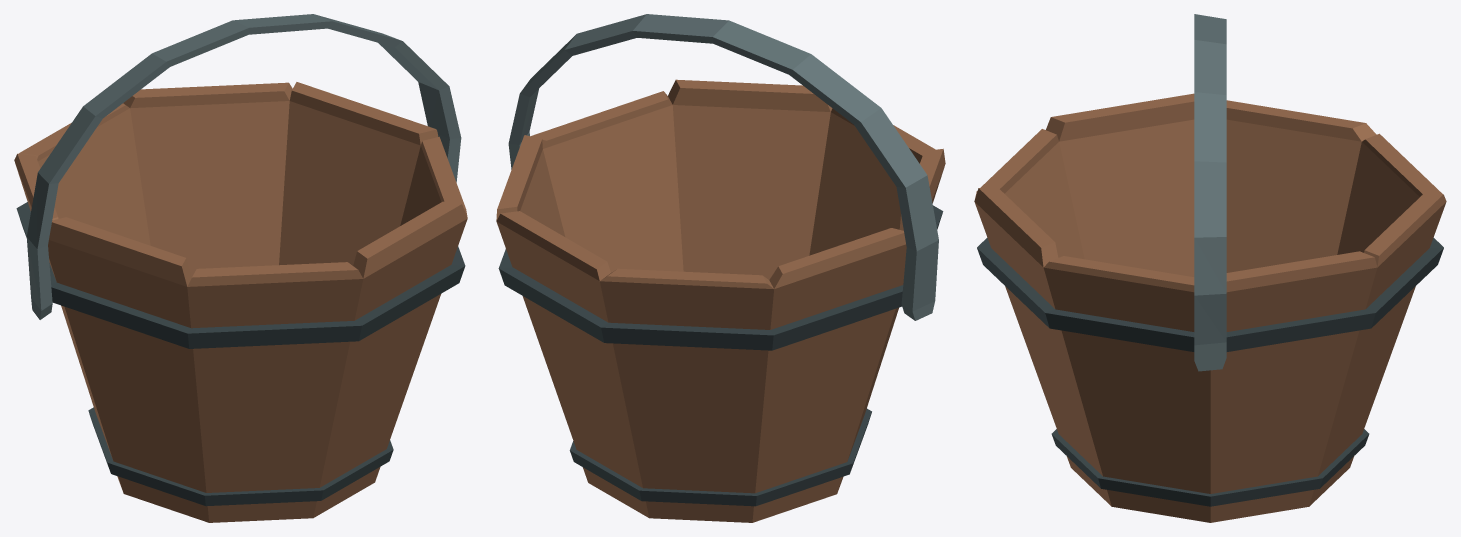
File: Bucket.obj
3 renders of one model, left to right at view 1: azimuth 30°, elevation 25°; view 2: azimuth 150°, elevation 25°; view 3: azimuth 270°, elevation 25°, orthographic. The views are drawn at different scales.
Bounding box in the file's own units: 1 × 1 × 1.
